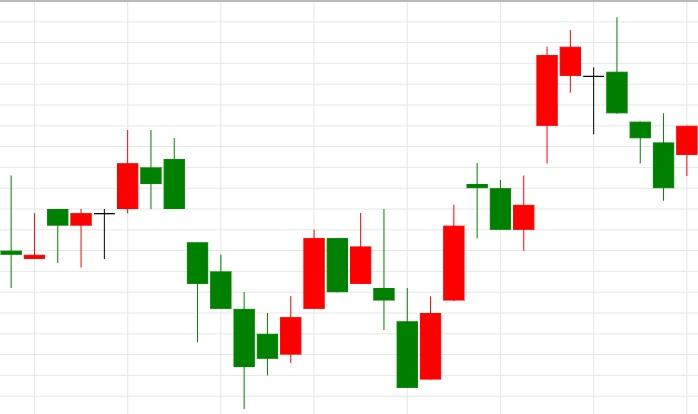three_black_crows_fall: (512, 17, 675, 251)
